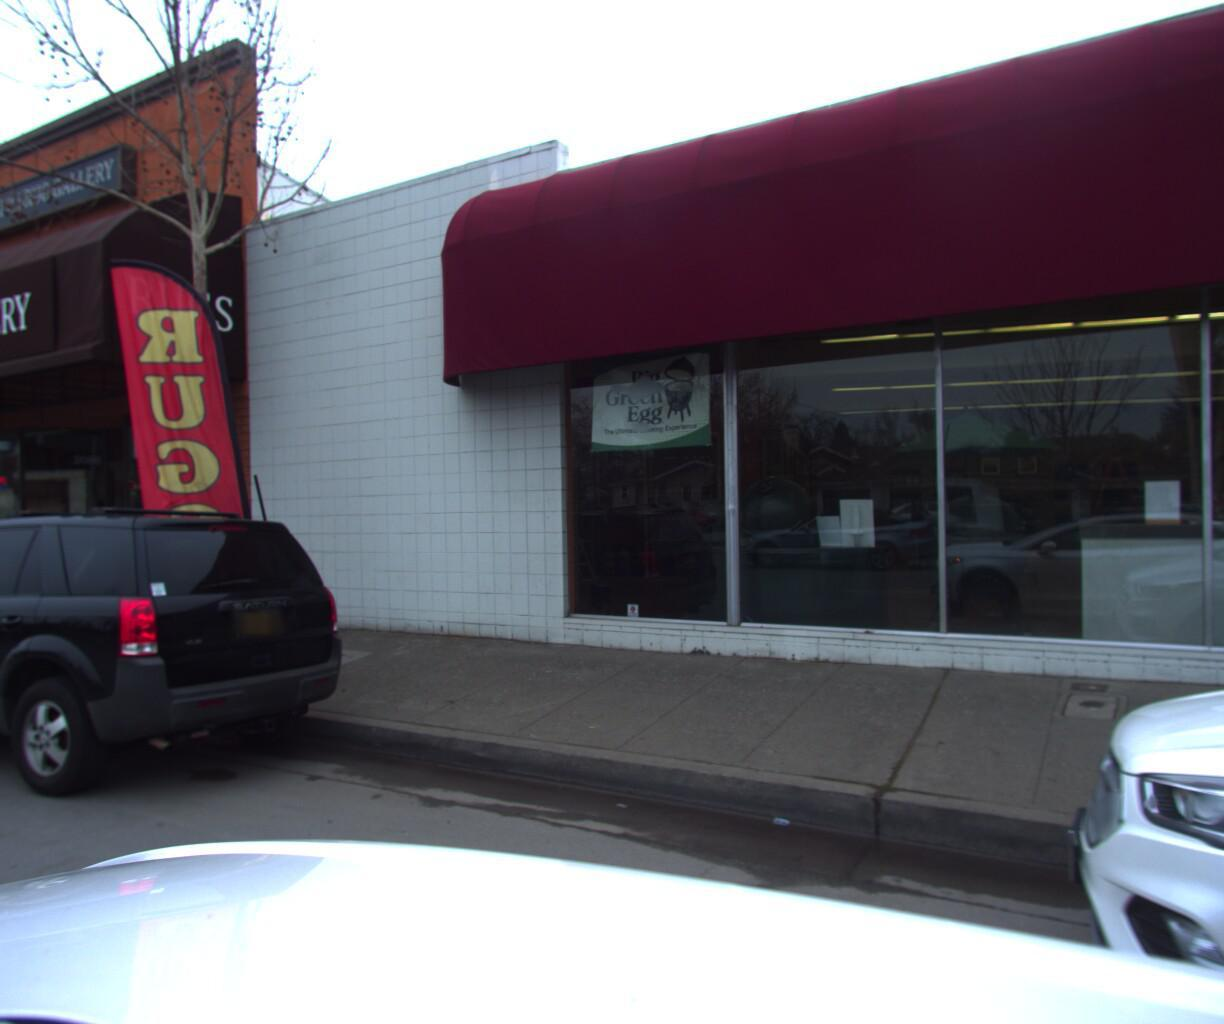car: (0, 500, 364, 825)
